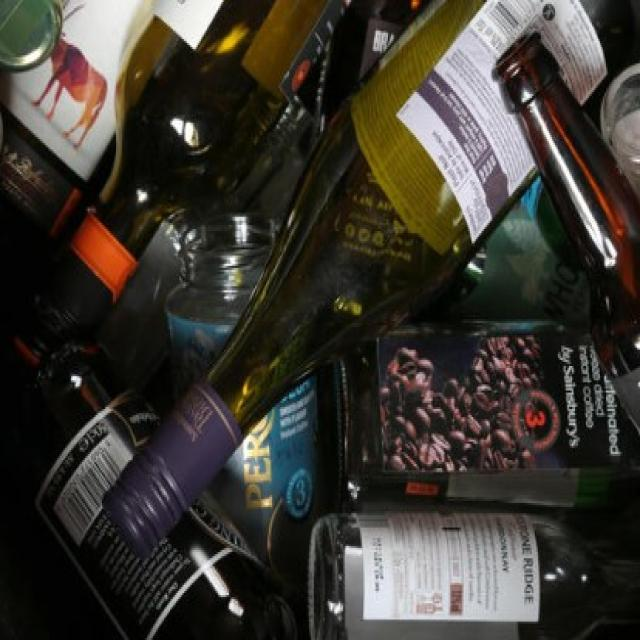electronic: (106, 0, 640, 546), (304, 304, 640, 640), (37, 0, 356, 352)
